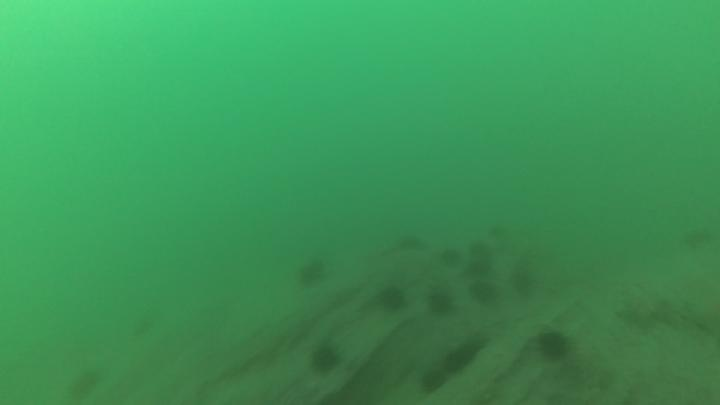echinus: (534, 326, 573, 364), (65, 366, 104, 402), (307, 340, 343, 377), (294, 255, 330, 290), (375, 282, 409, 315), (679, 223, 716, 253), (462, 327, 494, 360), (441, 343, 472, 376), (417, 366, 450, 396), (509, 265, 538, 299), (425, 287, 456, 318), (468, 278, 500, 306), (394, 231, 427, 255), (464, 254, 494, 279), (468, 234, 493, 263), (438, 245, 464, 270)
starfish: (608, 296, 667, 341)
